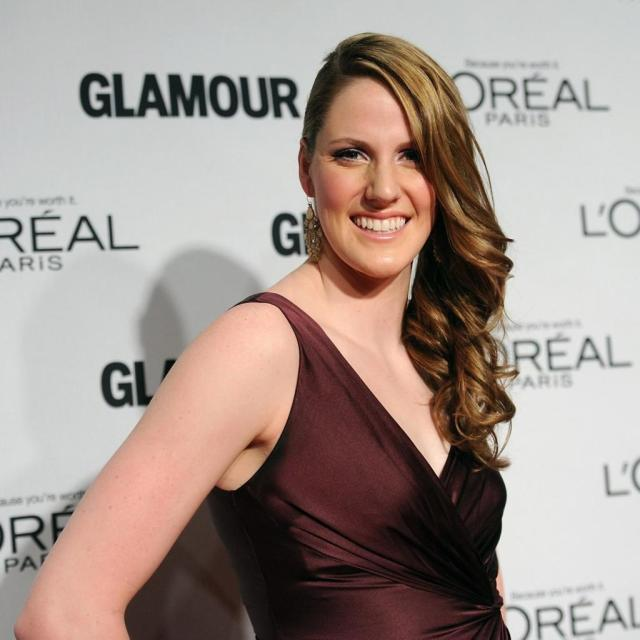Face: (298, 69, 453, 290)
